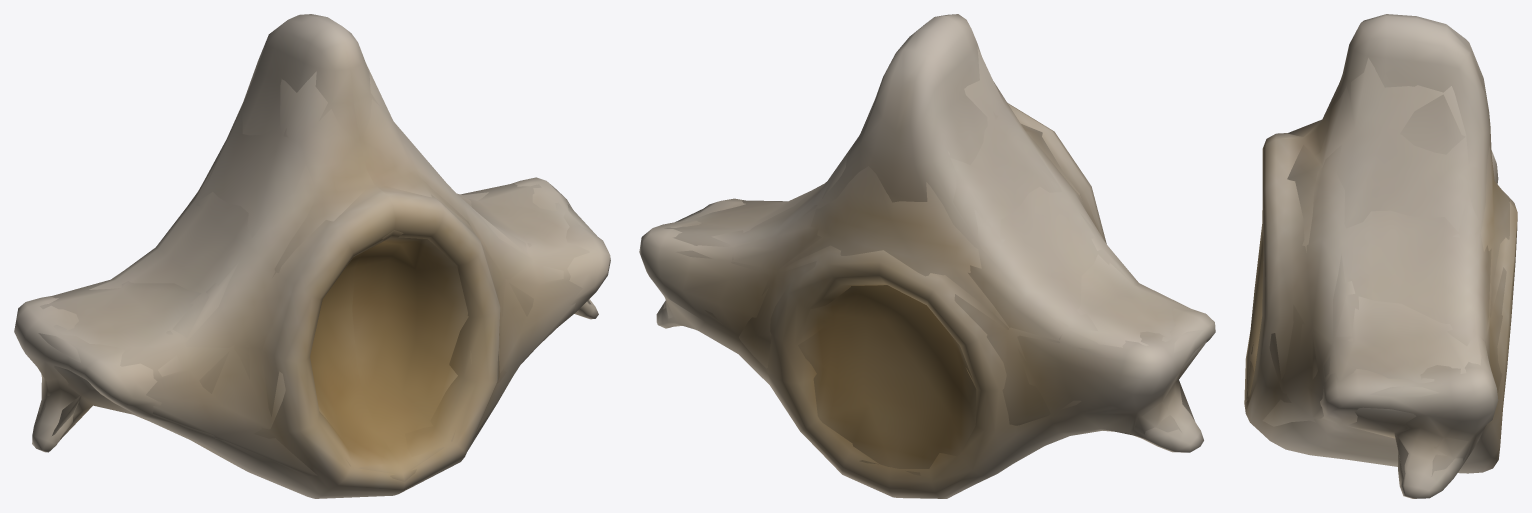
Rendered from vertebrae caudales 01.fbx.
3 views of the same model, side by side, from view 1: azimuth 30°, elevation 25°; view 2: azimuth 150°, elevation 25°; view 3: azimuth 270°, elevation 25° (orthographic). The views are drawn at different scales.
Visible parts, largest first — view 1: vertebrae caudales 01, vertebrae caudales 01 low; view 2: vertebrae caudales 01, vertebrae caudales 01 low; view 3: vertebrae caudales 01, vertebrae caudales 01 low.
Boxes of the visible parts, x1,y1,x2,y2 form: vertebrae caudales 01: (14, 14, 610, 498); vertebrae caudales 01 low: (38, 64, 597, 481); vertebrae caudales 01: (639, 14, 1215, 498); vertebrae caudales 01 low: (663, 47, 1206, 475); vertebrae caudales 01: (1244, 14, 1517, 498); vertebrae caudales 01 low: (1245, 58, 1509, 478).
Size of the model in its own units: 4.27 by 3.38 by 1.88.
Materials: 1 (1 with a texture image).
